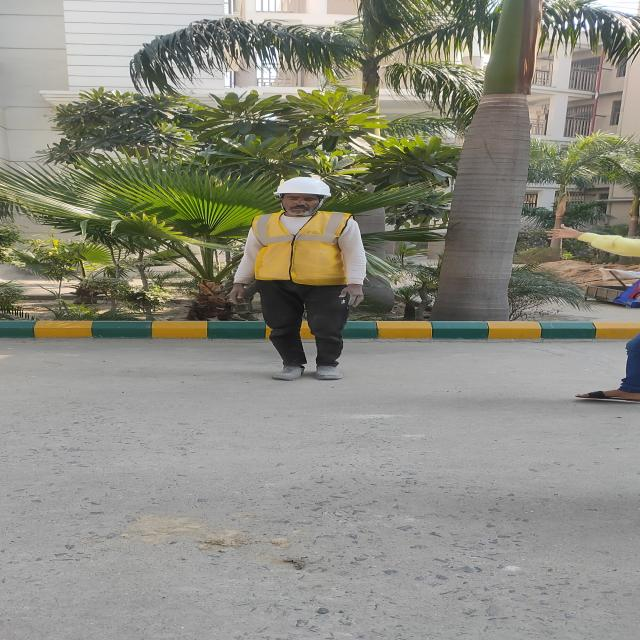safe: (252, 178, 355, 380)
